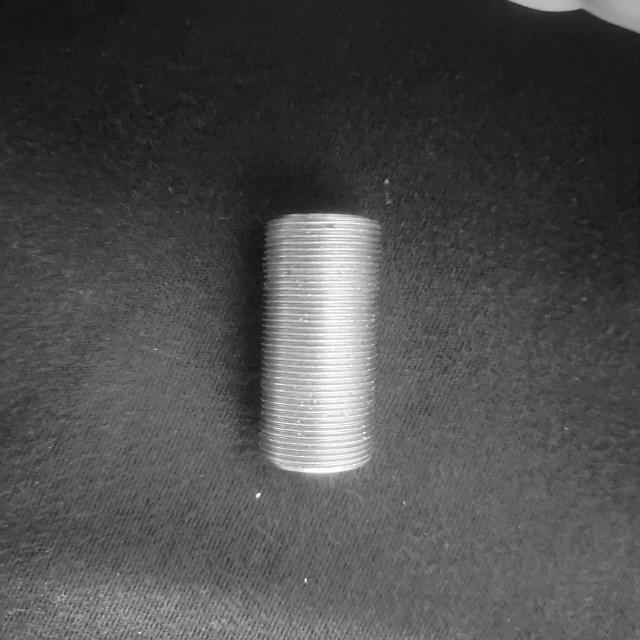Normal: (255, 208, 380, 475)
